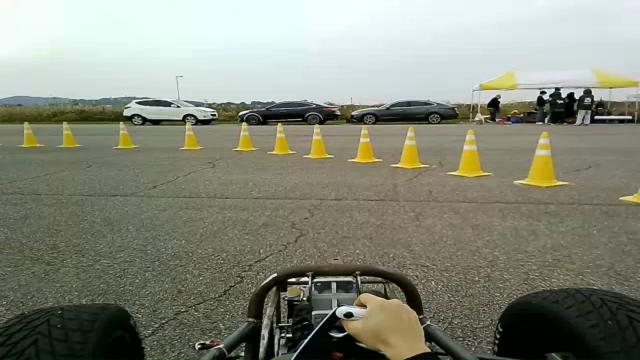yellow cone: (512, 131, 568, 187), (446, 129, 492, 177), (390, 126, 429, 169), (347, 125, 383, 163), (303, 124, 334, 158), (266, 122, 296, 155), (232, 121, 259, 151), (112, 121, 139, 149), (178, 121, 204, 150), (17, 121, 44, 147), (56, 121, 82, 148), (618, 186, 640, 204)
